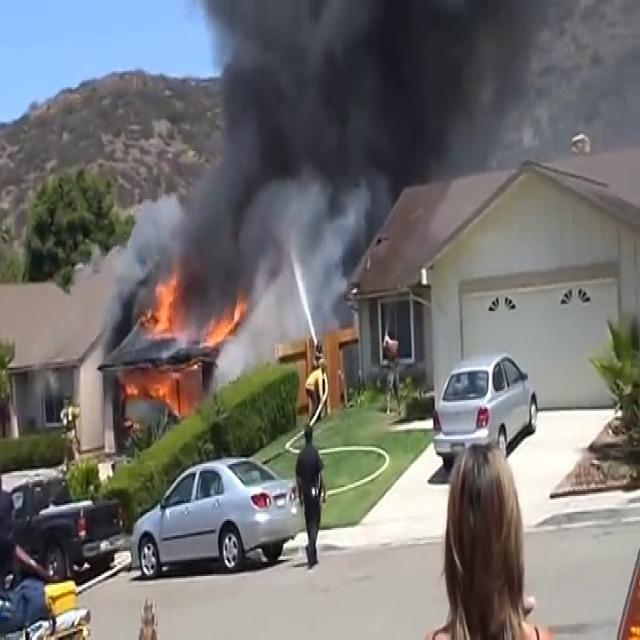Fire: (119, 359, 183, 424), (140, 270, 187, 342), (207, 294, 250, 350)
Smoke: (132, 0, 486, 322)
